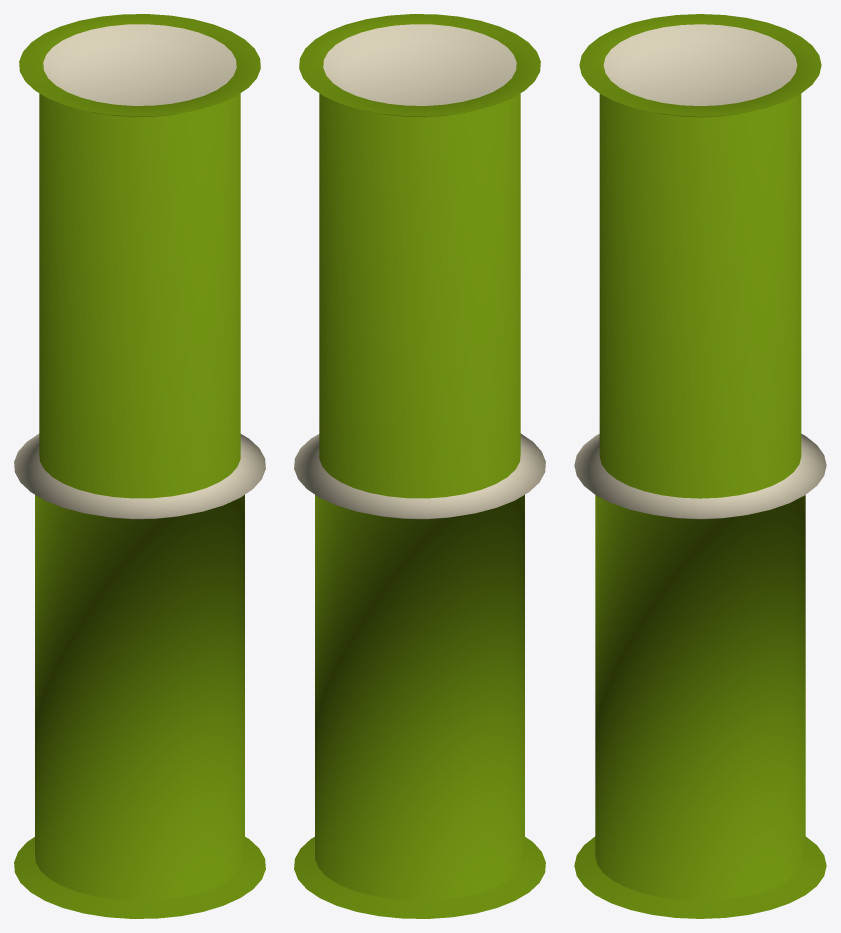
File: Bamboo.fbx
3 renders of one model, left to right at view 1: azimuth 30°, elevation 25°; view 2: azimuth 150°, elevation 25°; view 3: azimuth 270°, elevation 25°, orthographic.
Visible parts, largest first — view 1: Cylinder; view 2: Cylinder; view 3: Cylinder.
Part boxes in pixels (x1,y1,x2,y2): Cylinder: (14,14,265,918); Cylinder: (294,14,545,918); Cylinder: (574,14,826,918).
Size of the model in its own units: 16.8 by 58.8 by 16.8.
